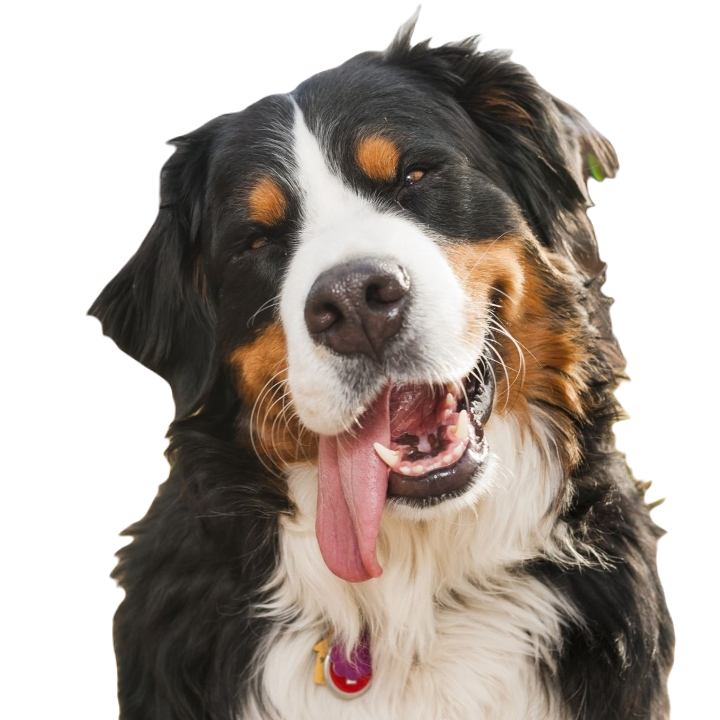Dog: (82, 0, 675, 719)
